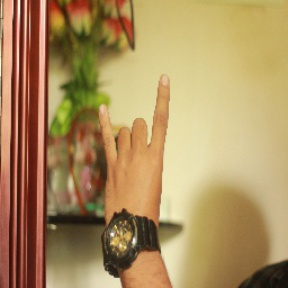V: (95, 68, 180, 230)
